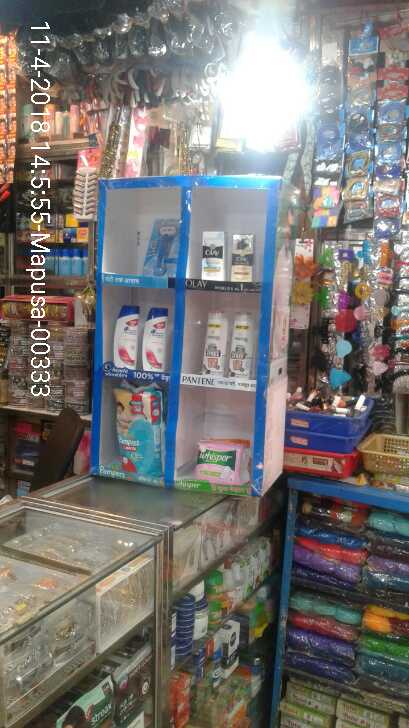venus: (141, 219, 181, 276)
